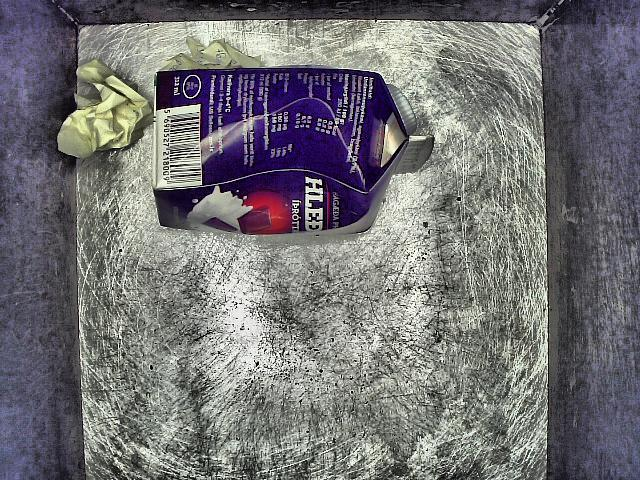Paper: (152, 70, 436, 253), (58, 50, 147, 185), (152, 37, 273, 71)
